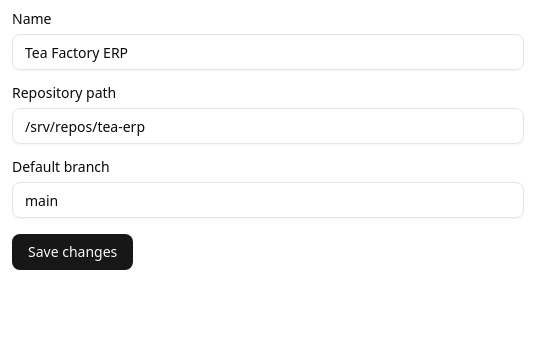
Test case: EditProjectForm › PATCHes only the changed fields and confirms the save
Replace the text in the field labelled "Name" with "Tea Factory ERP v2" at (268, 52), box [12,34,524,70]
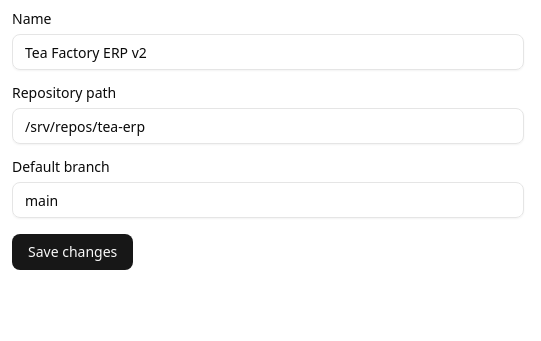
Click the button "Save changes".
click(73, 252)  # box [12,234,133,270]
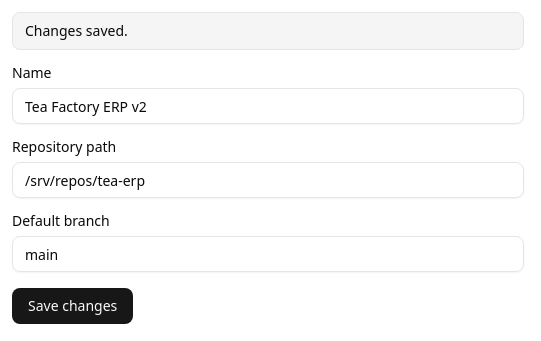
Expected: the text "Changes saved." is shown, [12,12,524,50]
